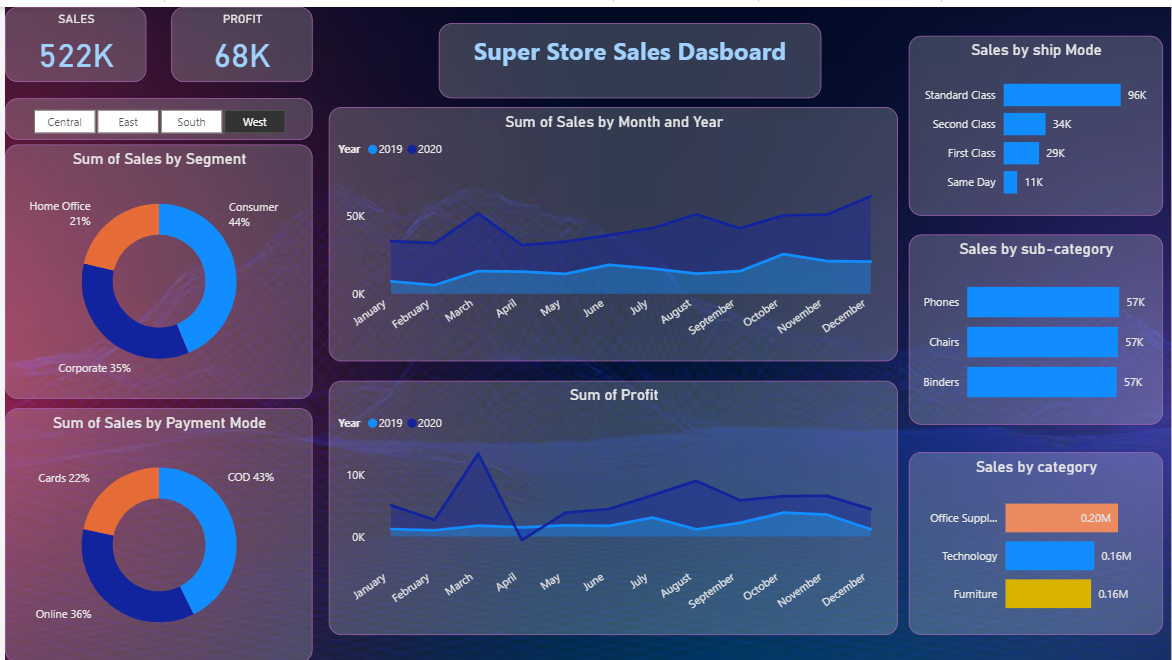

The page's visual inventory and layout, read from the dashboard file:
{"tool":"powerbi","page":{"name":"Page 1","canvas":[1280,720],"ordinal":0},"visuals":[{"type":"clusteredBarChart","title":"Sales by category","fields":{"Category":["SuperStore_Sales_Dataset.Category"],"Y":["Sum(SuperStore_Sales_Dataset.Sales)"]},"box":[991.8,489,278.9,200.6],"z":0},{"type":"clusteredBarChart","title":"Sales by sub-category","fields":{"Category":["SuperStore_Sales_Dataset.Sub-Category"],"Y":["Sum(SuperStore_Sales_Dataset.Sales)"]},"box":[991.8,250,278.9,208.8],"z":1000},{"type":"clusteredBarChart","title":"Sales by ship Mode","fields":{"Category":["SuperStore_Sales_Dataset.Ship Mode"],"Y":["Sum(SuperStore_Sales_Dataset.Sales)"]},"box":[991.8,31.6,278.9,197.8],"z":2000},{"type":"stackedAreaChart","fields":{"Y":["Sum(SuperStore_Sales_Dataset.Sales)"],"Category":["SuperStore_Sales_Dataset.Order Date.Variation.Date Hierarchy.Month","SuperStore_Sales_Dataset.Order Date.Variation.Date Hierarchy.Day"],"Series":["SuperStore_Sales_Dataset.Order Date.Variation.Date Hierarchy.Year"]},"box":[355.8,109.9,625,278.9],"z":3000},{"type":"stackedAreaChart","title":"Sum of Profit ","fields":{"Category":["SuperStore_Sales_Dataset.Order Date.Variation.Date Hierarchy.Month","SuperStore_Sales_Dataset.Order Date.Variation.Date Hierarchy.Day"],"Series":["SuperStore_Sales_Dataset.Order Date.Variation.Date Hierarchy.Year"],"Y":["Sum(SuperStore_Sales_Dataset.Profit)"]},"box":[355.8,410.7,625,278.9],"z":4000},{"type":"donutChart","fields":{"Category":["SuperStore_Sales_Dataset.Segment"],"Y":["Sum(SuperStore_Sales_Dataset.Sales)"]},"box":[0,151.1,337.9,278.9],"z":5000},{"type":"donutChart","fields":{"Category":["SuperStore_Sales_Dataset.Payment Mode"],"Y":["Sum(SuperStore_Sales_Dataset.Sales)"]},"box":[0,441,337.9,278.9],"z":6000},{"type":"slicer","fields":{"Values":["SuperStore_Sales_Dataset.Region"]},"box":[0,100.3,337.9,45.3],"z":7000},{"type":"textbox","box":[476.7,17.9,420.3,82.4],"z":8000},{"type":"card","title":"SALES","fields":{"Values":["Sum(SuperStore_Sales_Dataset.Sales)"]},"box":[0,0,155.2,82.4],"z":9000},{"type":"card","title":"PROFIT","fields":{"Values":["Sum(SuperStore_Sales_Dataset.Profit)"]},"box":[182.7,0,155.2,82.4],"z":10000}]}

Visuals, with their boxes in screenshot pixels (x1, y1, x2, y2), scaled from the page's 1280x720 canvas onto the 1172x660 screenshot:
"Sales by category" clusteredBarChart: pyautogui.locateOnScreen(908, 448, 1163, 632)
"Sales by sub-category" clusteredBarChart: pyautogui.locateOnScreen(908, 229, 1163, 421)
"Sales by ship Mode" clusteredBarChart: pyautogui.locateOnScreen(908, 29, 1163, 210)
stackedAreaChart - Sum(SuperStore_Sales_Dataset.Sales) x SuperStore_Sales_Dataset.Order Date.Variation.Date Hierarchy.Month: pyautogui.locateOnScreen(326, 101, 898, 356)
"Sum of Profit " stackedAreaChart: pyautogui.locateOnScreen(326, 376, 898, 632)
donutChart - SuperStore_Sales_Dataset.Segment x Sum(SuperStore_Sales_Dataset.Sales): pyautogui.locateOnScreen(0, 139, 309, 394)
donutChart - SuperStore_Sales_Dataset.Payment Mode x Sum(SuperStore_Sales_Dataset.Sales): pyautogui.locateOnScreen(0, 404, 309, 659)
slicer - SuperStore_Sales_Dataset.Region: pyautogui.locateOnScreen(0, 92, 309, 133)
textbox: pyautogui.locateOnScreen(436, 16, 821, 92)
"SALES" card: pyautogui.locateOnScreen(0, 0, 142, 76)
"PROFIT" card: pyautogui.locateOnScreen(167, 0, 309, 76)
